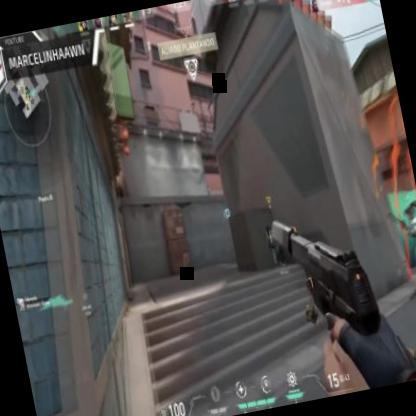enemy: (205, 184, 212, 198)
enemy_head: (206, 184, 209, 188)
